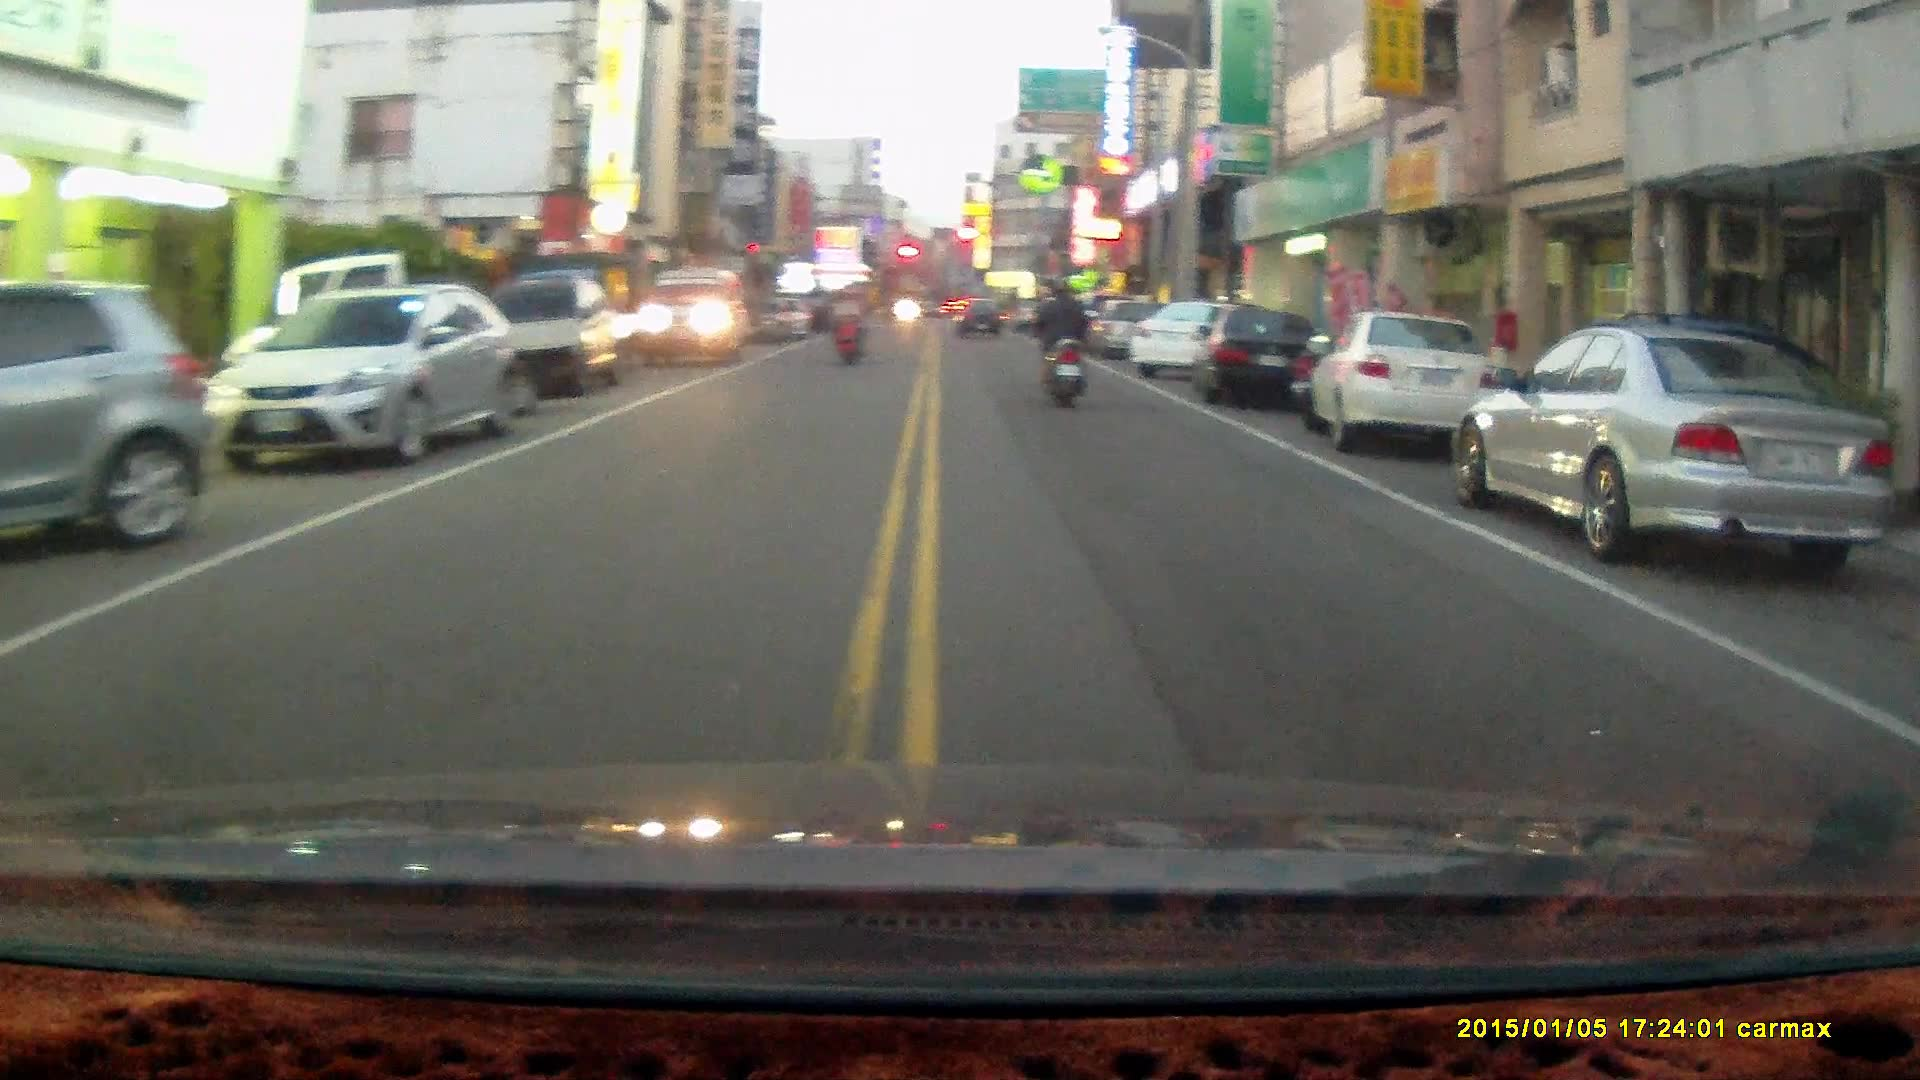rider: (1029, 275, 1087, 410), (832, 283, 866, 366)
vehicle: (1457, 322, 1899, 571), (1, 280, 216, 560), (208, 281, 514, 467), (1306, 311, 1518, 454), (479, 270, 624, 402), (1200, 302, 1328, 411), (635, 267, 750, 369)
